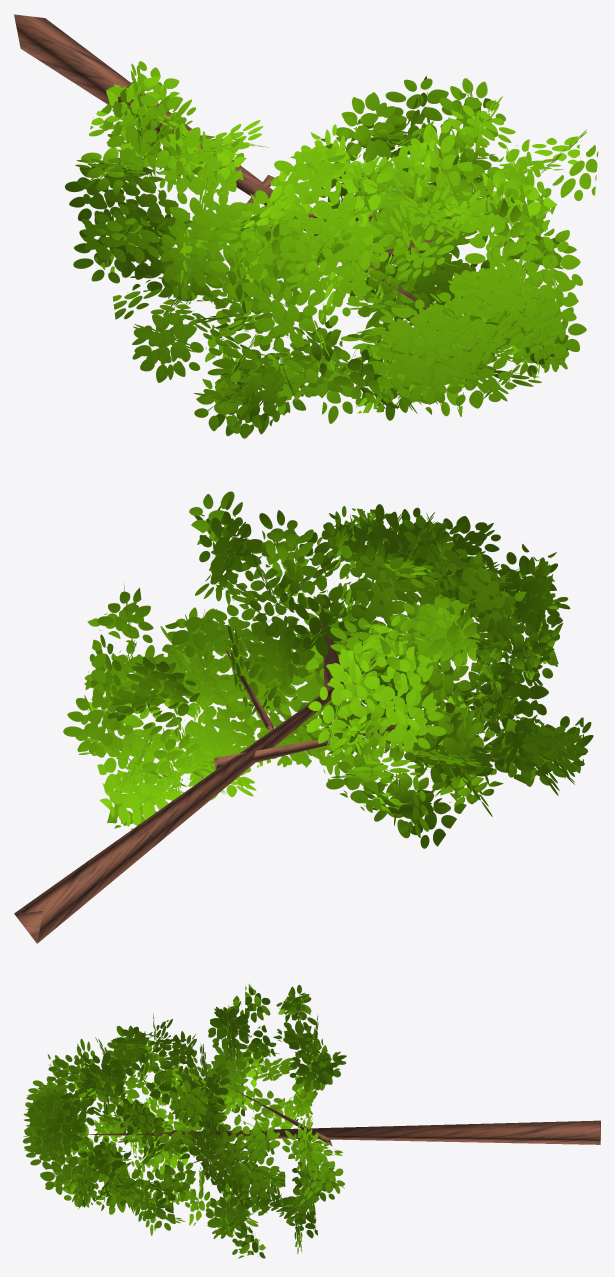
File: NormalTree_1.glb
The picture shows the model from 3 angles, top to bottom: view 1: azimuth 30°, elevation 25°; view 2: azimuth 150°, elevation 25°; view 3: azimuth 270°, elevation 25°; orthographic projection. The views are drawn at different scales.
Parts seen in each view (by area): view 1: NormalTree_1; view 2: NormalTree_1; view 3: NormalTree_1.
Part boxes in pixels (bbox=[...]): NormalTree_1: bbox=[14, 14, 598, 438]; NormalTree_1: bbox=[14, 491, 593, 943]; NormalTree_1: bbox=[23, 984, 600, 1258].
Size of the model in its own units: 3.84 by 2.62 by 6.87.
2 materials, 2 textured.
